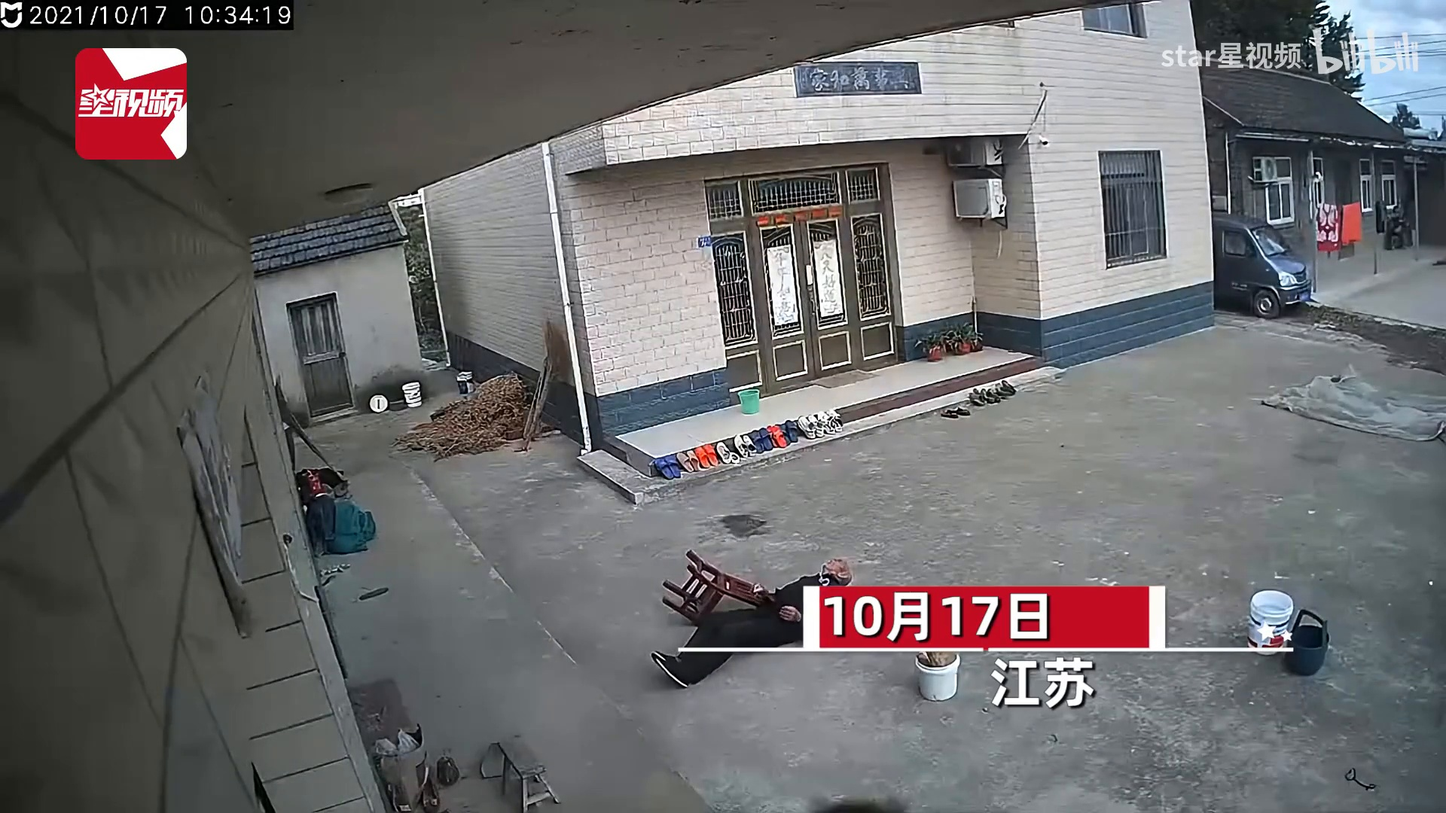fall_down: (650, 556, 851, 690)
